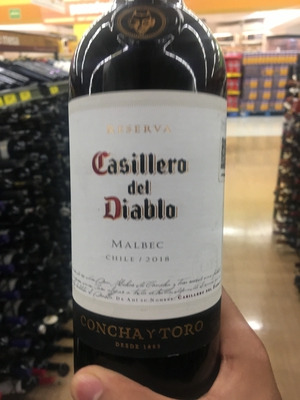casillero del diablo malbec: (63, 10, 241, 380)
